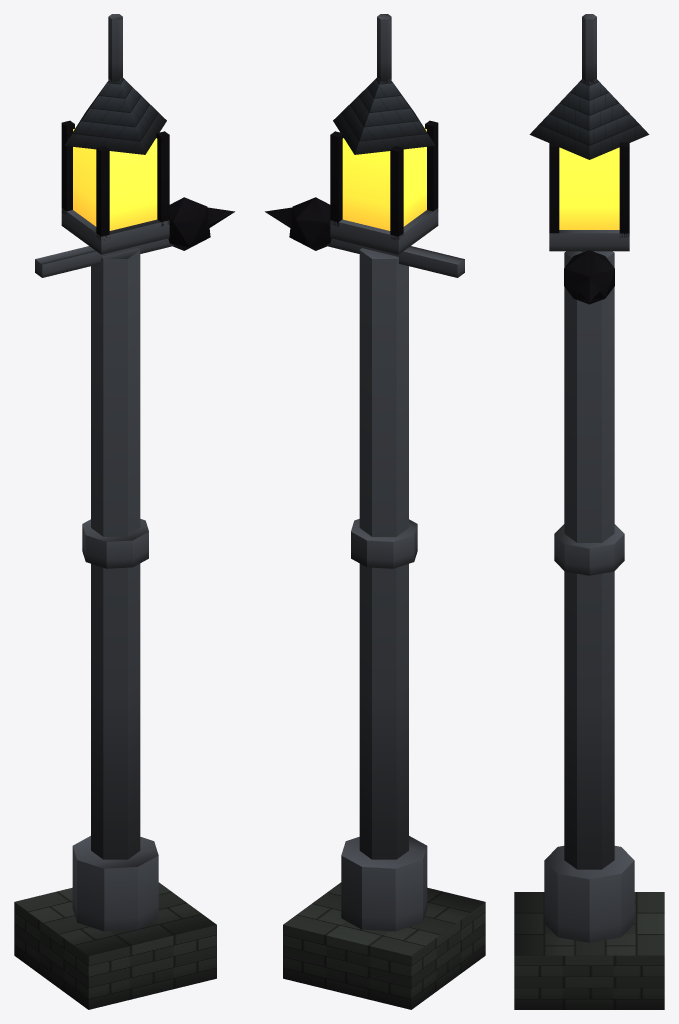
Rendered from streetlamp.fbx.
3 views of the same model, side by side, from view 1: azimuth 30°, elevation 25°; view 2: azimuth 150°, elevation 25°; view 3: azimuth 270°, elevation 25° (orthographic).
Visible parts, largest first — view 1: streetlamp; view 2: streetlamp; view 3: streetlamp.
Boxes of the visible parts, bbox=[...] form: streetlamp: bbox=[14, 14, 234, 1009]; streetlamp: bbox=[265, 14, 485, 1009]; streetlamp: bbox=[514, 14, 664, 1009].
Bounding box in the file's own units: 46 × 212 × 30.
Materials: 1 (1 with a texture image).
